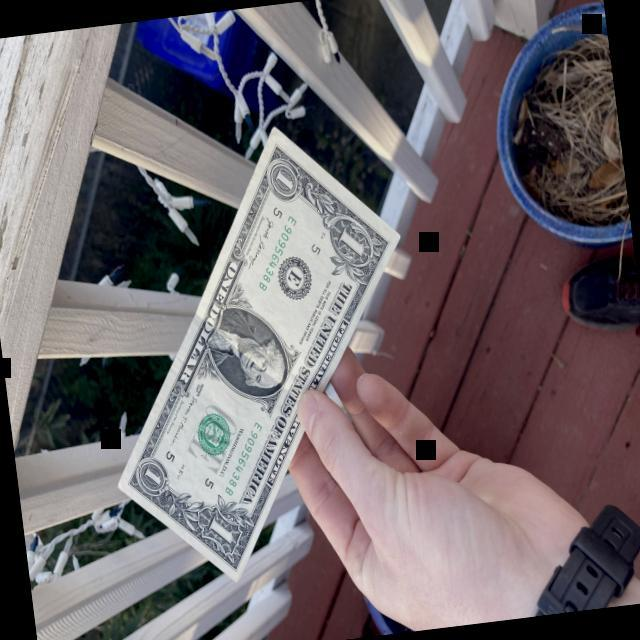one: (118, 124, 400, 584)
